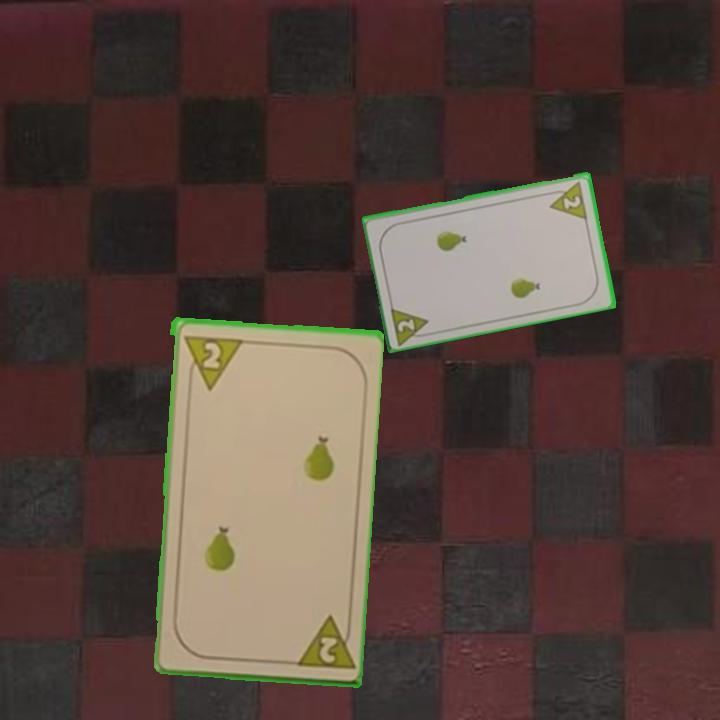2p: (178, 331, 242, 392), (544, 177, 590, 222), (387, 302, 434, 346), (315, 633, 339, 666)
